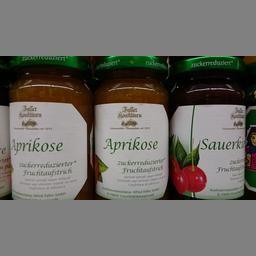jam: (8, 55, 91, 200), (92, 55, 170, 198), (169, 56, 247, 198)
